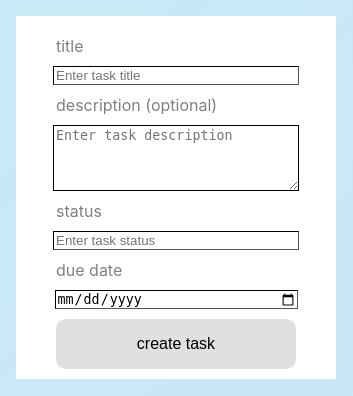
Home Component › submit button is enabled when all required fields are filled
Step 1. Type "Test Task" into the field with placeholder "Enter task title" → (176, 76), box [53, 66, 299, 85]
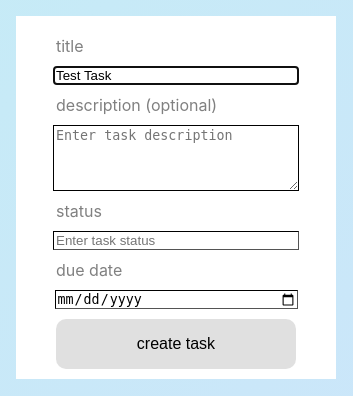
Step 2. Type "pending" into the field with placeholder "Enter task status" → (176, 240), box [53, 231, 299, 250]
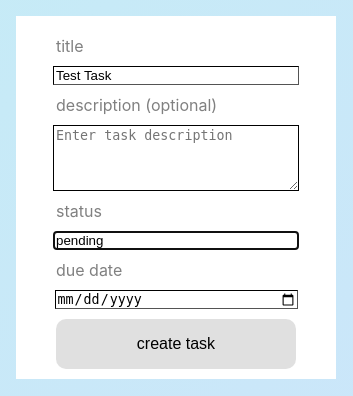
Step 3. Type "2024-12-31" into the date field labelled "due date" → (176, 300), box [54, 290, 298, 309]
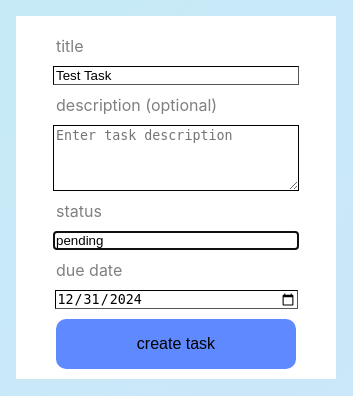
Expected: the button "create task" is enabled, [56, 319, 296, 369]
